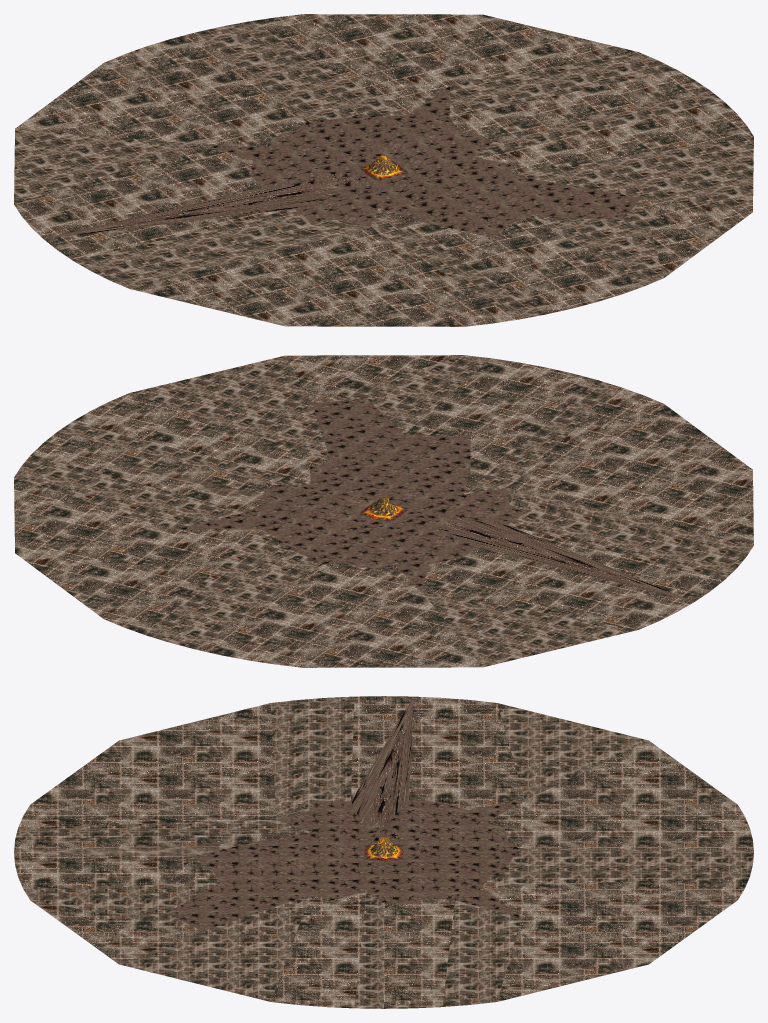
Rendered from ENVO_Volcano-after.obj.
3 renders of one model, top to bottom at view 1: azimuth 30°, elevation 25°; view 2: azimuth 150°, elevation 25°; view 3: azimuth 270°, elevation 25°, orthographic.
Parts seen in each view (by area): view 1: Volcanoafter; view 2: Volcanoafter; view 3: Volcanoafter.
Boxes of the visible parts, <box> form: Volcanoafter: <box>14,14,753,326</box>; Volcanoafter: <box>14,355,753,667</box>; Volcanoafter: <box>14,696,753,1008</box>.
Size of what is drawn, in the model's own units: 47187 by 1020 by 47187.
Materials: 7 (7 with a texture image).
